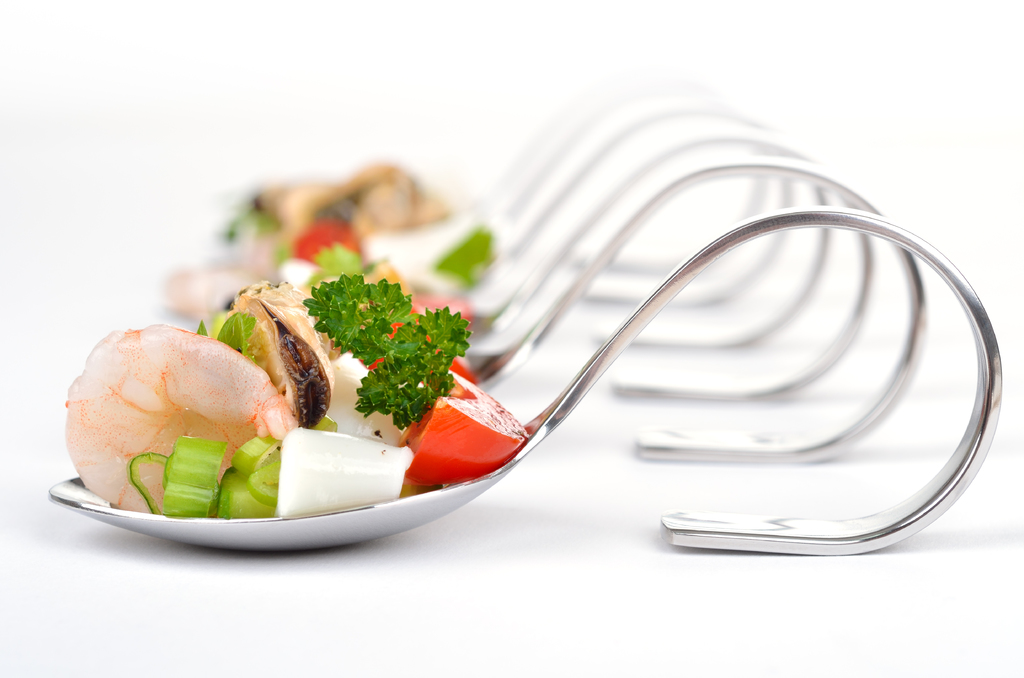salad: (59, 275, 535, 528)
